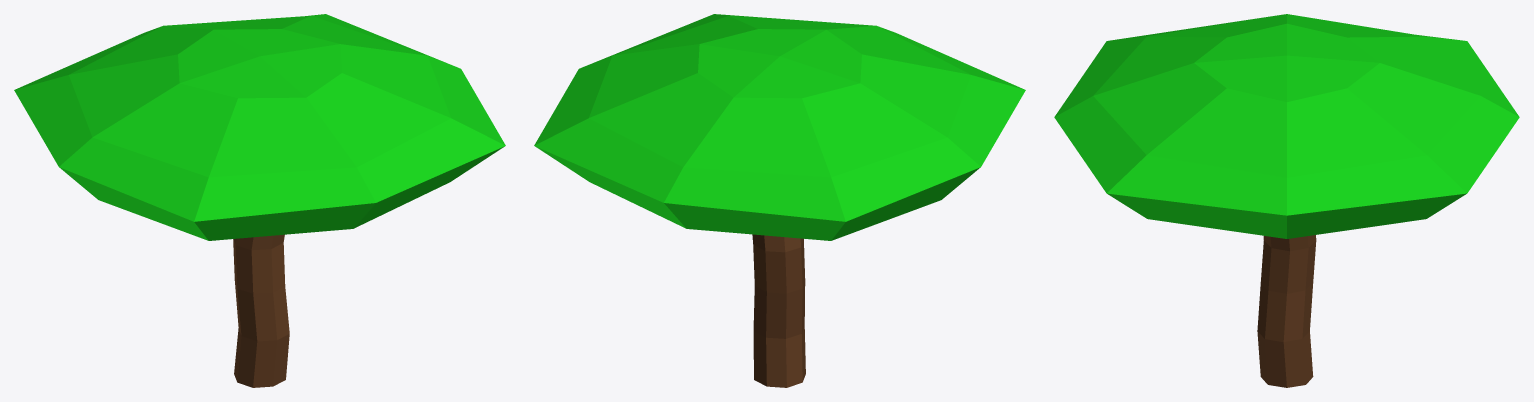
Rendered from carvalho_2.fbx.
The picture shows the model from 3 angles, left to right: view 1: azimuth 30°, elevation 25°; view 2: azimuth 150°, elevation 25°; view 3: azimuth 270°, elevation 25°; orthographic projection.
Parts seen in each view (by area): view 1: copa, toco; view 2: copa, toco; view 3: copa, toco.
Boxes of the visible parts, x1=… form: copa: x1=14, y1=14, x2=505, y2=240; toco: x1=233, y1=234, x2=289, y2=387; copa: x1=534, y1=14, x2=1025, y2=240; toco: x1=752, y1=234, x2=805, y2=387; copa: x1=1054, y1=14, x2=1519, y2=238; toco: x1=1257, y1=235, x2=1316, y2=387.
Size of the model in its own units: 1272 by 969 by 1272.
